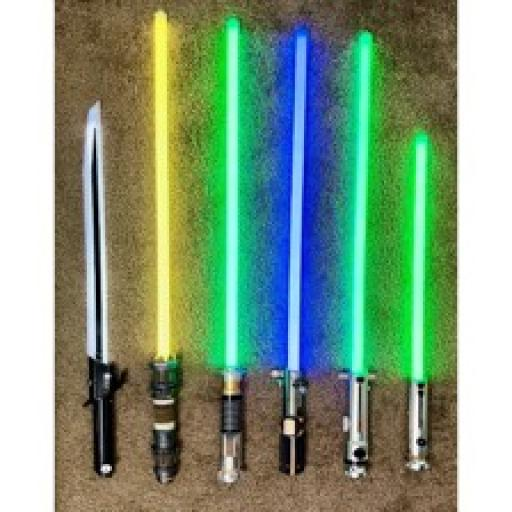lightsaber: (212, 16, 249, 488), (147, 5, 183, 489), (340, 29, 378, 480), (277, 29, 309, 475), (400, 138, 434, 470)
